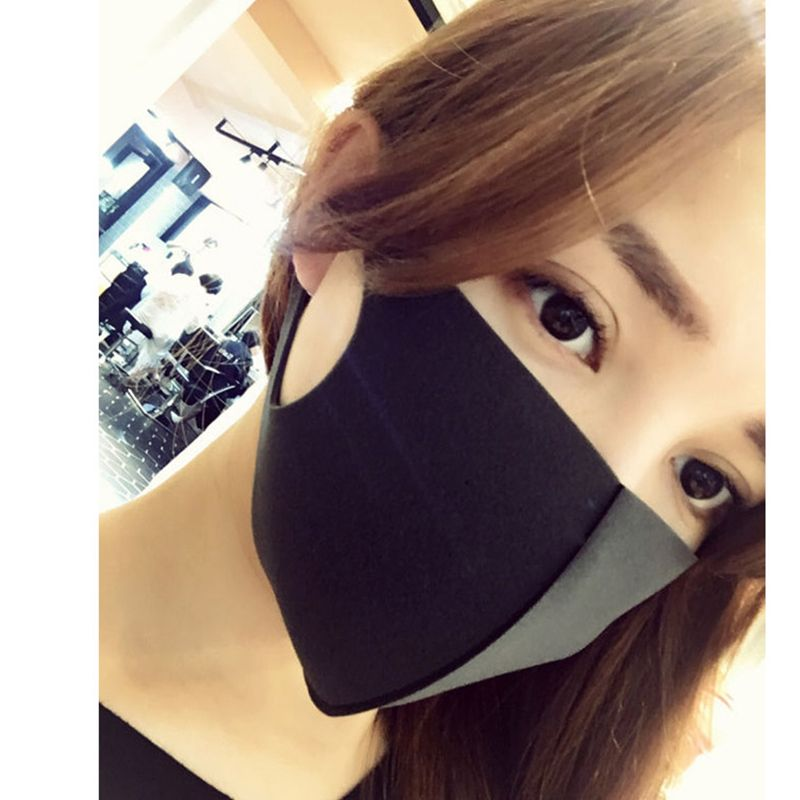face_mask: (248, 203, 778, 718)
